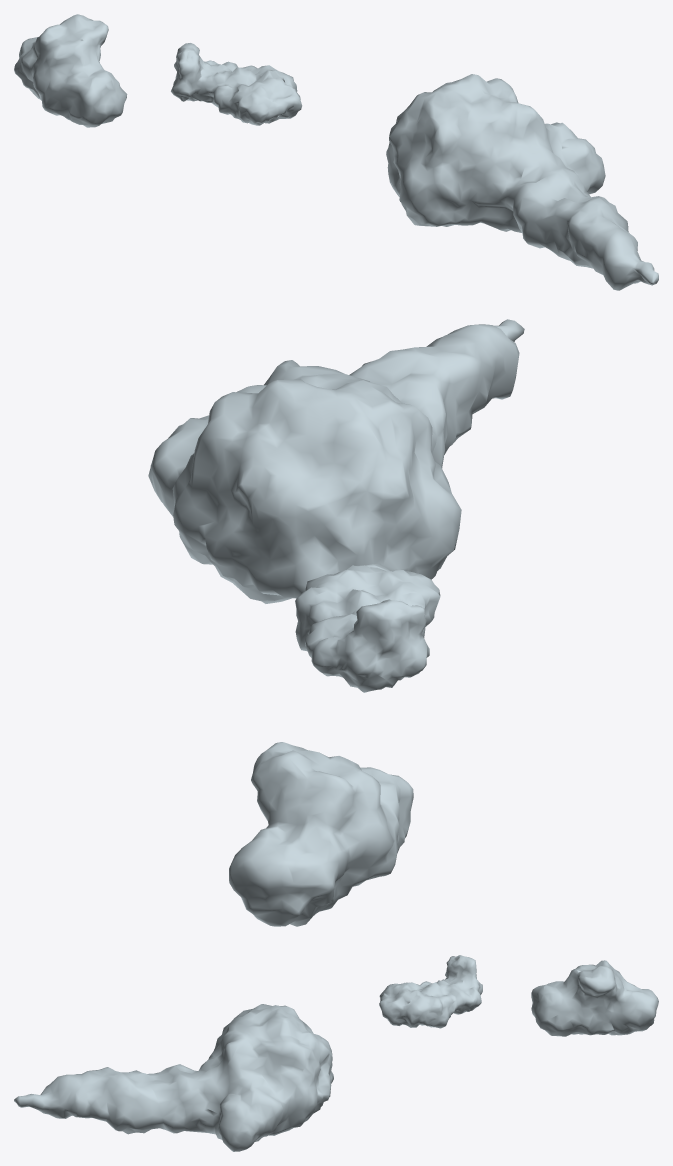
Rendered from clouds.fbx.
3 renders of one model, top to bottom at view 1: azimuth 30°, elevation 25°; view 2: azimuth 150°, elevation 25°; view 3: azimuth 270°, elevation 25°, orthographic. The views are drawn at different scales.
Parts seen in each view (by area): view 1: scale clouds, medium clouds, small clouds; view 2: scale clouds, medium clouds, small clouds; view 3: scale clouds, medium clouds, small clouds.
Boxes of the visible parts, left/top/right/bottom form: scale clouds: left=386, top=74, right=658, bottom=290; medium clouds: left=14, top=14, right=127, bottom=127; small clouds: left=171, top=43, right=302, bottom=125; scale clouds: left=148, top=319, right=524, bottom=603; medium clouds: left=229, top=742, right=413, bottom=926; small clouds: left=295, top=563, right=440, bottom=692; scale clouds: left=14, top=1004, right=333, bottom=1151; medium clouds: left=531, top=960, right=658, bottom=1036; small clouds: left=379, top=955, right=482, bottom=1028.
Size of the model in its own units: 7012 by 2577 by 13471.
